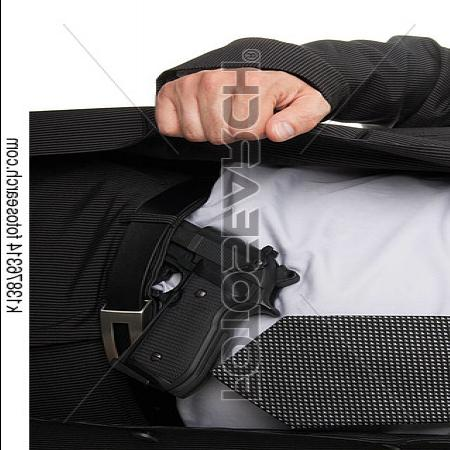Pistol: (112, 203, 296, 402)
